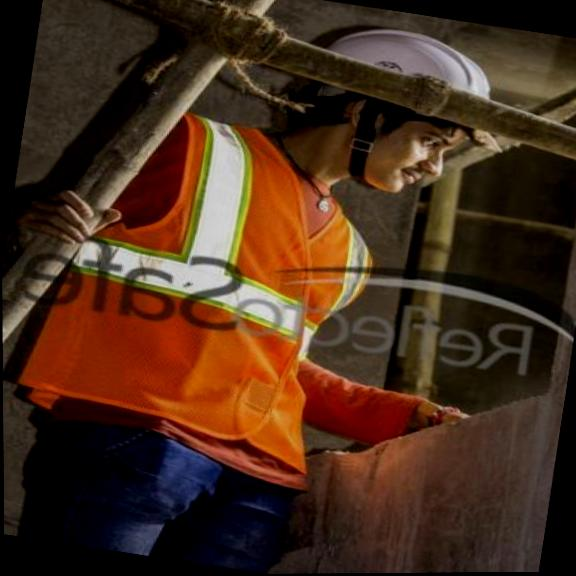safety_vest: (11, 103, 402, 464)
